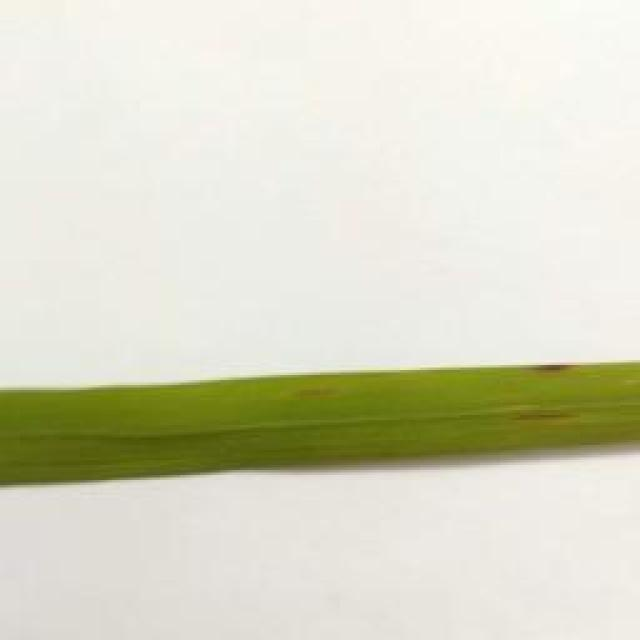Brown_Spot: (507, 406, 591, 428), (534, 354, 574, 377), (296, 381, 339, 402)
